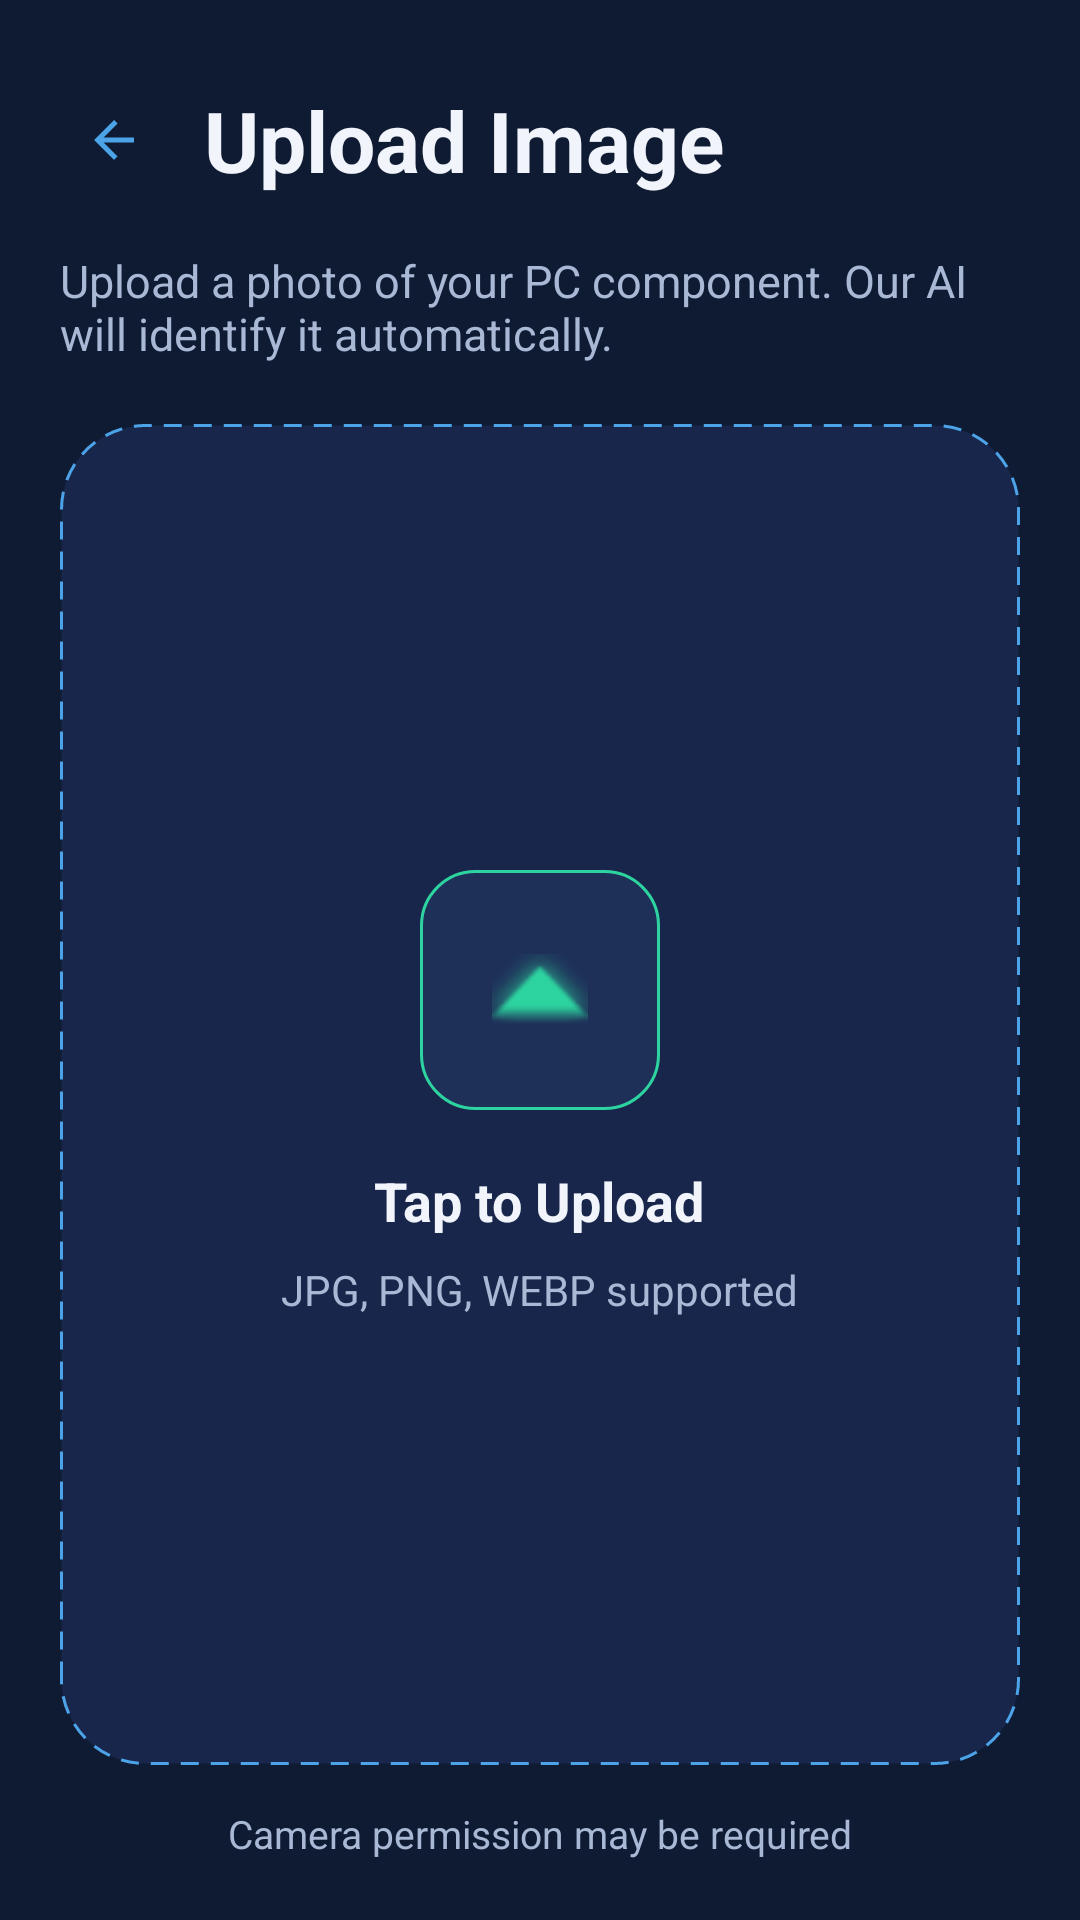

Screen size 1080 x 1920. Icon name, then its center in pixels as point (x, y):
arrow back: point (114, 140)
